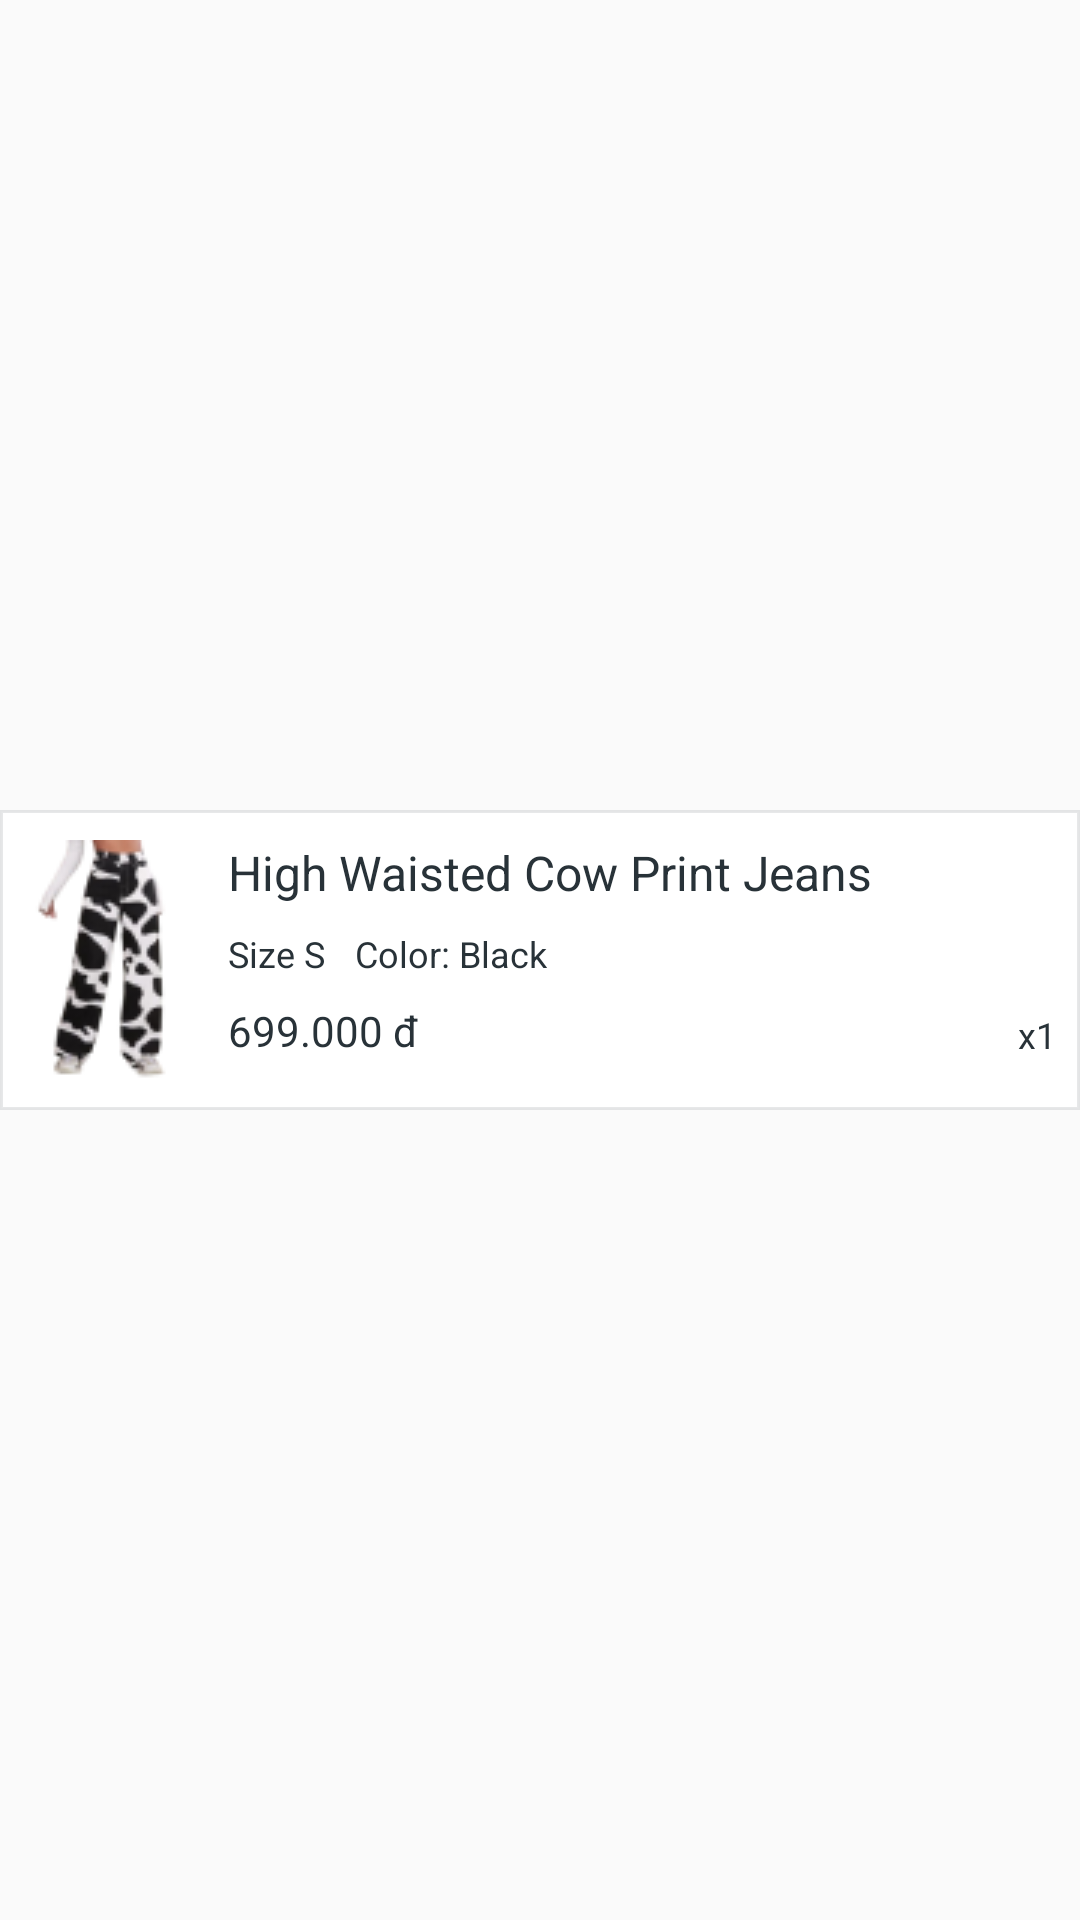

Icon bounding boxes for this 1080px x 1920px phone screenshot, format box=[x1, y1, x2, y2]:
prod jean trans: box=[38, 840, 163, 1076]
